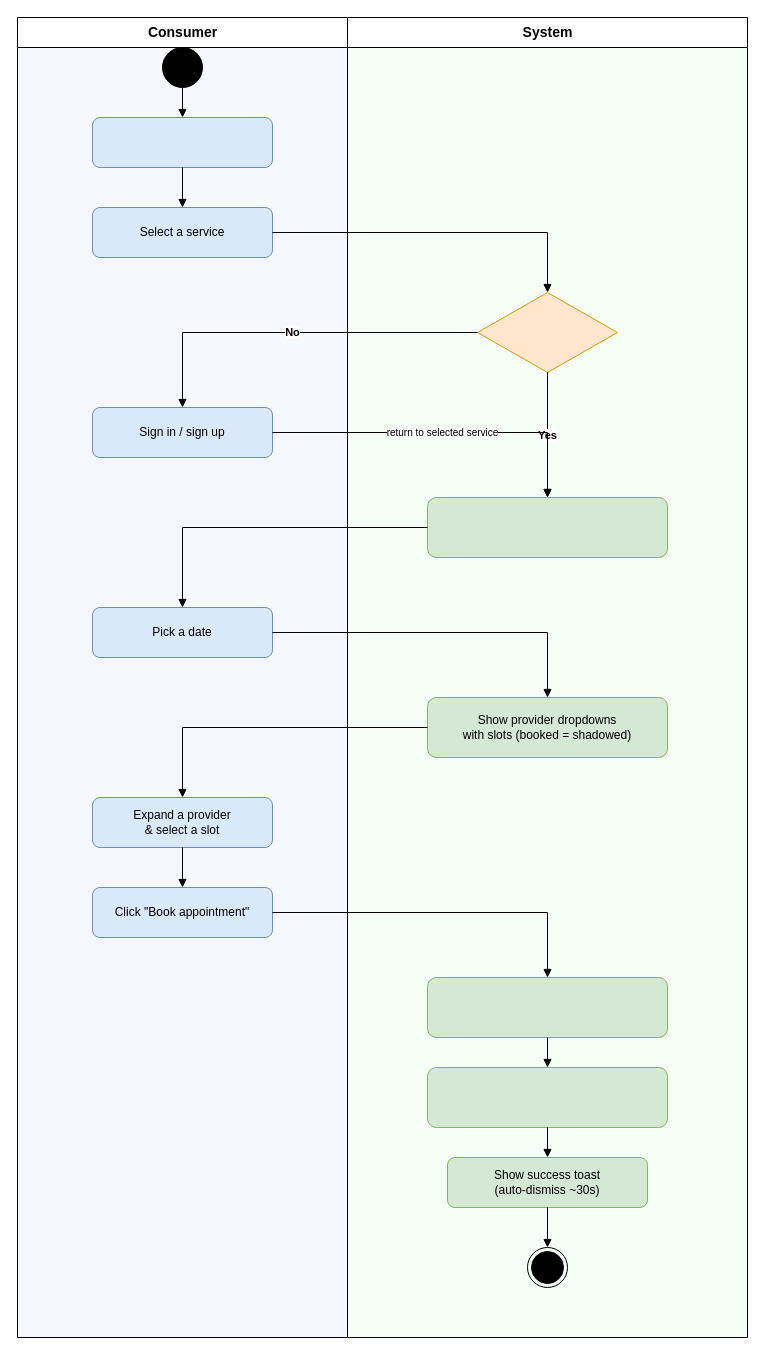
Image size: 765x1355. Some labels were removed from this diagram. The shapes that lost their labels are listed below. From the top down, each one's box as (x1, y1, x2, y2) in pixels, then its label:
(92, 116, 272, 168): Browse services (booking page)
(476, 292, 618, 372): Authenticated?
(426, 496, 668, 558): Show calendar (availability-pressure colors, days with no free slots shadowed)
(426, 976, 668, 1038): Create booking & reserve slot across ALL that provider's services
(426, 1066, 668, 1128): Create Meet on provider's calendar (both invited) & send confirmation email
